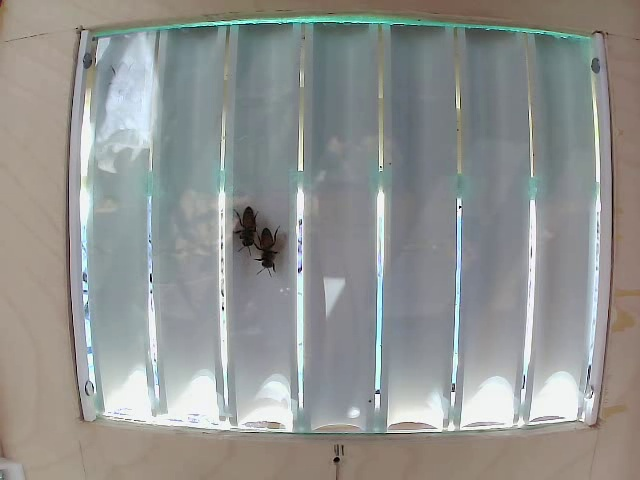bee: (248, 226, 285, 288), (228, 203, 254, 254)
